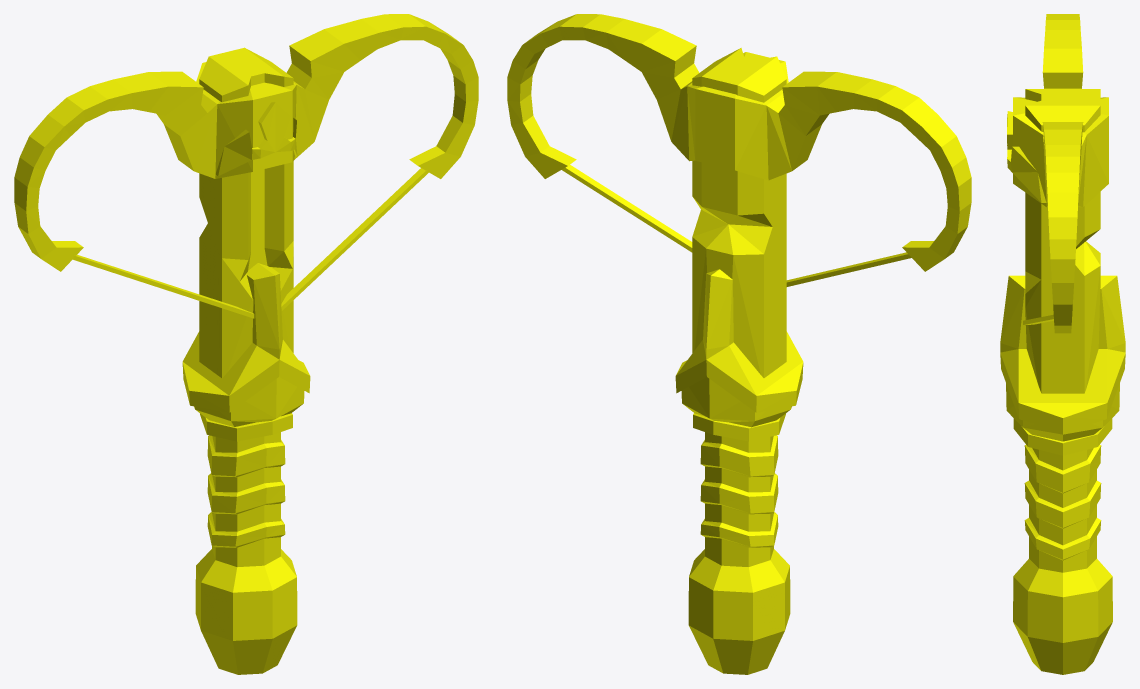
File: _crossbow_10.glb
3 renders of one model, left to right at view 1: azimuth 30°, elevation 25°; view 2: azimuth 150°, elevation 25°; view 3: azimuth 270°, elevation 25°, orthographic. The views are drawn at different scales.
Visible parts, largest first — view 1: crossbow_10; view 2: crossbow_10; view 3: crossbow_10.
Part boxes in pixels (<box>): crossbow_10: <box>14,14,478,674</box>; crossbow_10: <box>507,14,971,674</box>; crossbow_10: <box>1000,14,1125,674</box>.
Size of the model in its own units: 17589 by 22511 by 4457.
